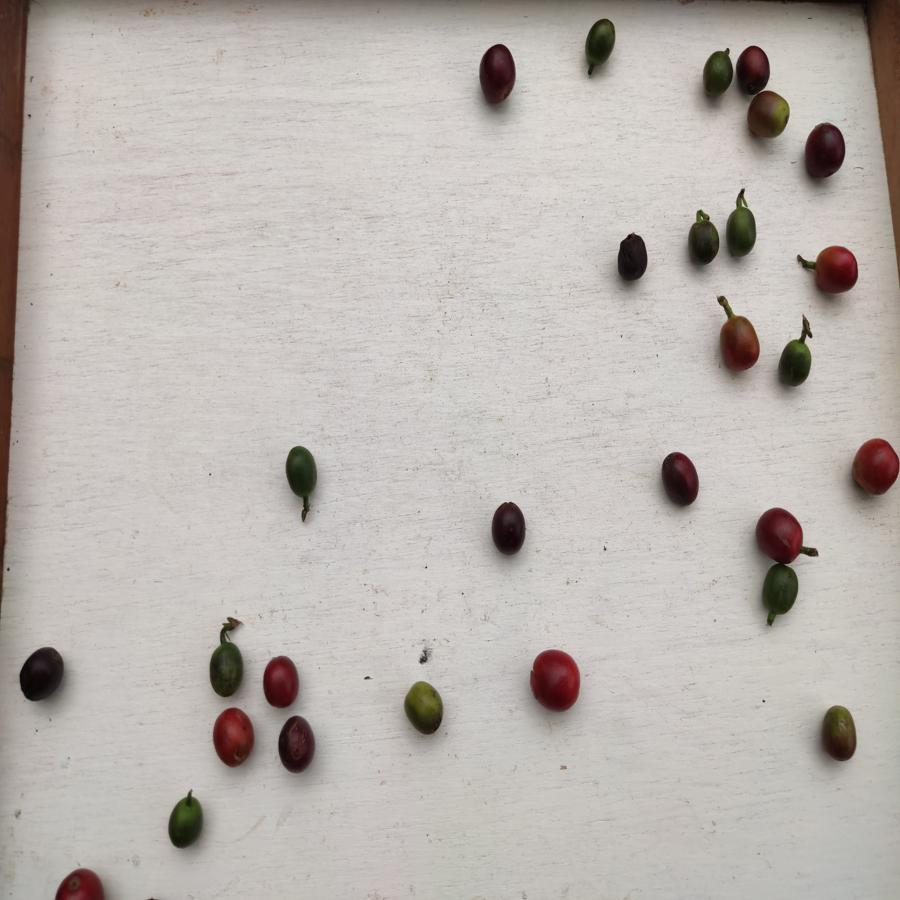Inmaduro: (282, 443, 320, 502), (760, 563, 802, 615), (207, 640, 244, 698), (582, 16, 619, 73), (776, 339, 815, 389), (700, 47, 734, 103), (168, 795, 203, 849), (725, 205, 758, 261), (685, 220, 721, 265)
Maduro: (524, 649, 587, 715), (850, 435, 899, 498), (211, 706, 258, 771), (811, 244, 862, 298), (260, 657, 306, 712), (52, 863, 106, 900)
Pinton: (746, 90, 794, 145), (720, 313, 762, 373), (403, 680, 446, 738), (819, 703, 857, 762)
Sobremaduro: (755, 506, 806, 564), (15, 647, 66, 704), (659, 450, 703, 510), (478, 43, 521, 103), (803, 120, 846, 180), (278, 714, 315, 773), (492, 499, 526, 555), (735, 43, 771, 94), (617, 230, 649, 284)
